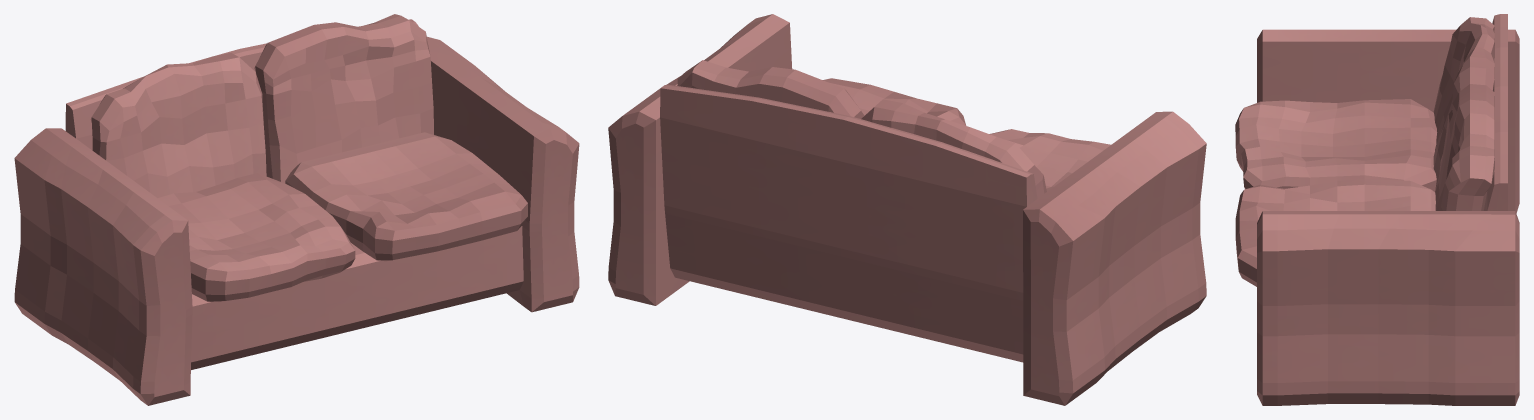
File: sofa_1_damaged.glb
The picture shows the model from 3 angles, left to right: view 1: azimuth 30°, elevation 25°; view 2: azimuth 150°, elevation 25°; view 3: azimuth 270°, elevation 25°; orthographic projection. The views are drawn at different scales.
Parts seen in each view (by area): view 1: body1, pillow_vert_2_damaged, pillow_hor_2_damaged, pillow_vert_1_damaged, pillow_hor_1_damaged; view 2: body1, pillow_vert_2_damaged, pillow_vert_1_damaged, pillow_hor_1_damaged, pillow_hor_2_damaged; view 3: body1, pillow_hor_1_damaged, pillow_hor_2_damaged, pillow_vert_2_damaged, pillow_vert_1_damaged.
Boxes of the visible parts, x1=… form: body1: x1=14, y1=19, x2=579, y2=405; pillow_vert_2_damaged: x1=254, y1=14, x2=433, y2=183; pillow_hor_2_damaged: x1=285, y1=132, x2=527, y2=261; pillow_vert_1_damaged: x1=90, y1=53, x2=266, y2=198; pillow_hor_1_damaged: x1=158, y1=173, x2=355, y2=302; body1: x1=608, y1=14, x2=1206, y2=405; pillow_vert_2_damaged: x1=677, y1=60, x2=864, y2=118; pillow_vert_1_damaged: x1=861, y1=99, x2=1046, y2=198; pillow_hor_1_damaged: x1=989, y1=129, x2=1110, y2=191; pillow_hor_2_damaged: x1=823, y1=78, x2=966, y2=125; body1: x1=1257, y1=14, x2=1519, y2=405; pillow_hor_1_damaged: x1=1235, y1=99, x2=1437, y2=191; pillow_hor_2_damaged: x1=1235, y1=179, x2=1435, y2=286; pillow_vert_2_damaged: x1=1435, y1=84, x2=1494, y2=210; pillow_vert_1_damaged: x1=1433, y1=17, x2=1494, y2=187.
Size of the model in its own units: 1.67 by 0.8485 by 0.9356.
1 material, 1 textured.
